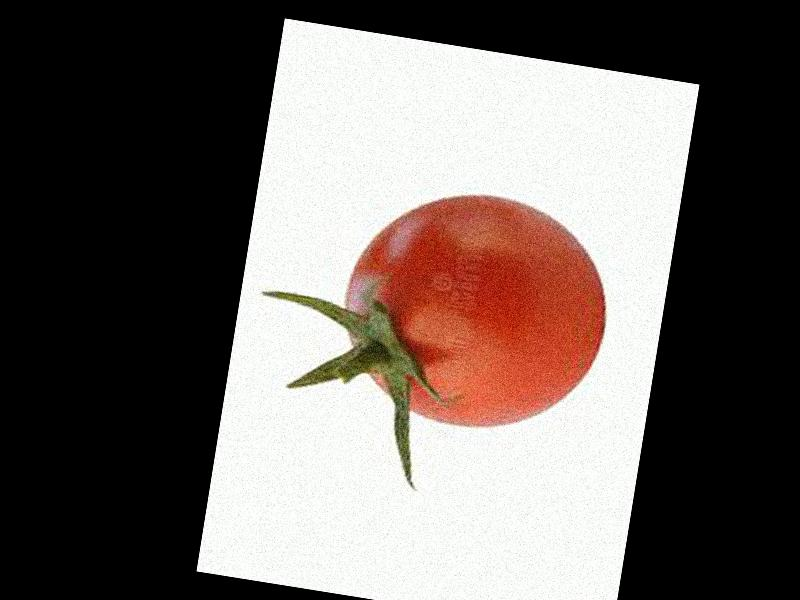Tomato: (330, 175, 623, 443)
